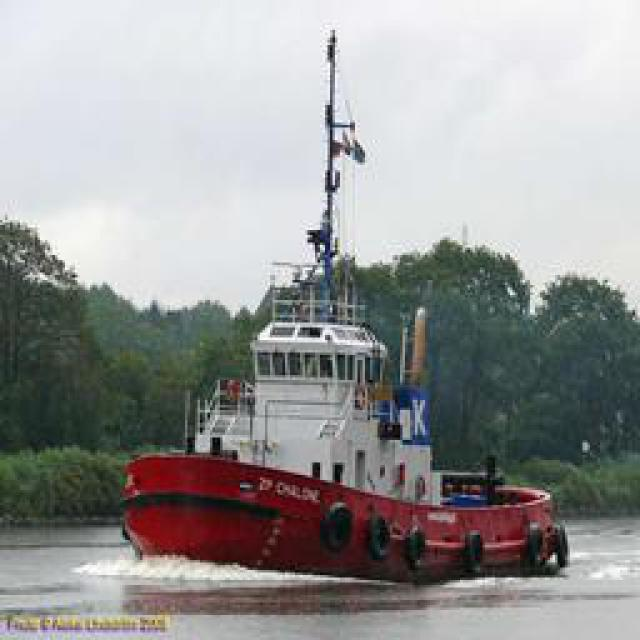Ship: (126, 24, 569, 584)
